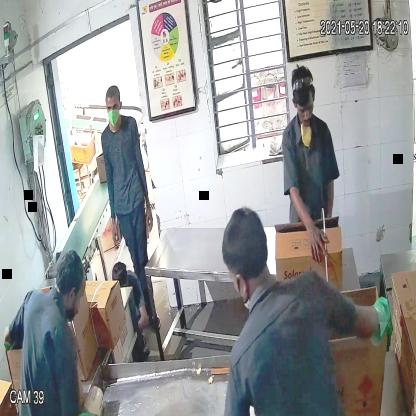no_goggles: (294, 102, 316, 118), (105, 98, 123, 115)
